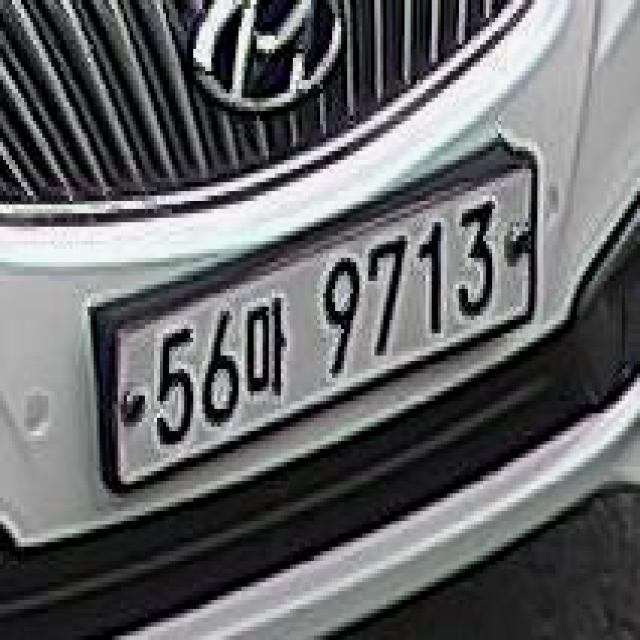illegal_plate: (93, 156, 547, 506)
